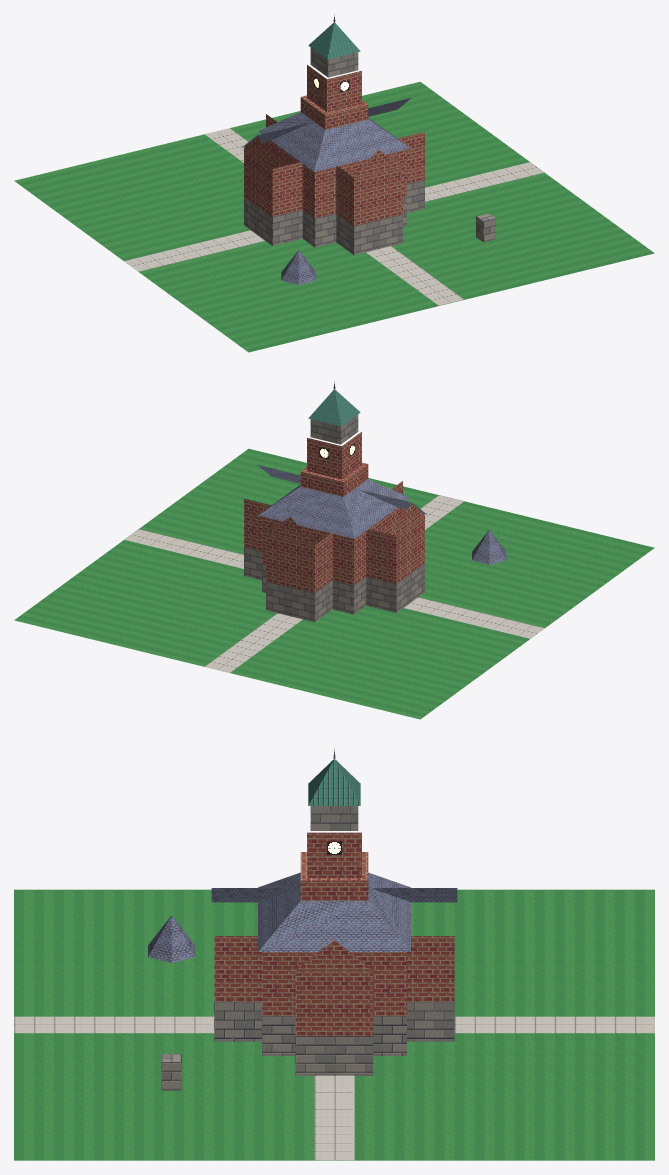
File: courthouse-far.glb
The picture shows the model from 3 angles, top to bottom: view 1: azimuth 30°, elevation 25°; view 2: azimuth 150°, elevation 25°; view 3: azimuth 270°, elevation 25°; orthographic projection. The views are drawn at different scales.
Visible parts, largest first — view 1: structure; view 2: structure; view 3: structure.
Part boxes in pixels (x1=…): structure: x1=14, y1=14, x2=654, y2=352; structure: x1=14, y1=381, x2=654, y2=719; structure: x1=14, y1=748, x2=654, y2=1160.
Bounding box in the file's own units: 79.46 × 37.87 × 79.46.
Materials: 11 (11 with a texture image).
